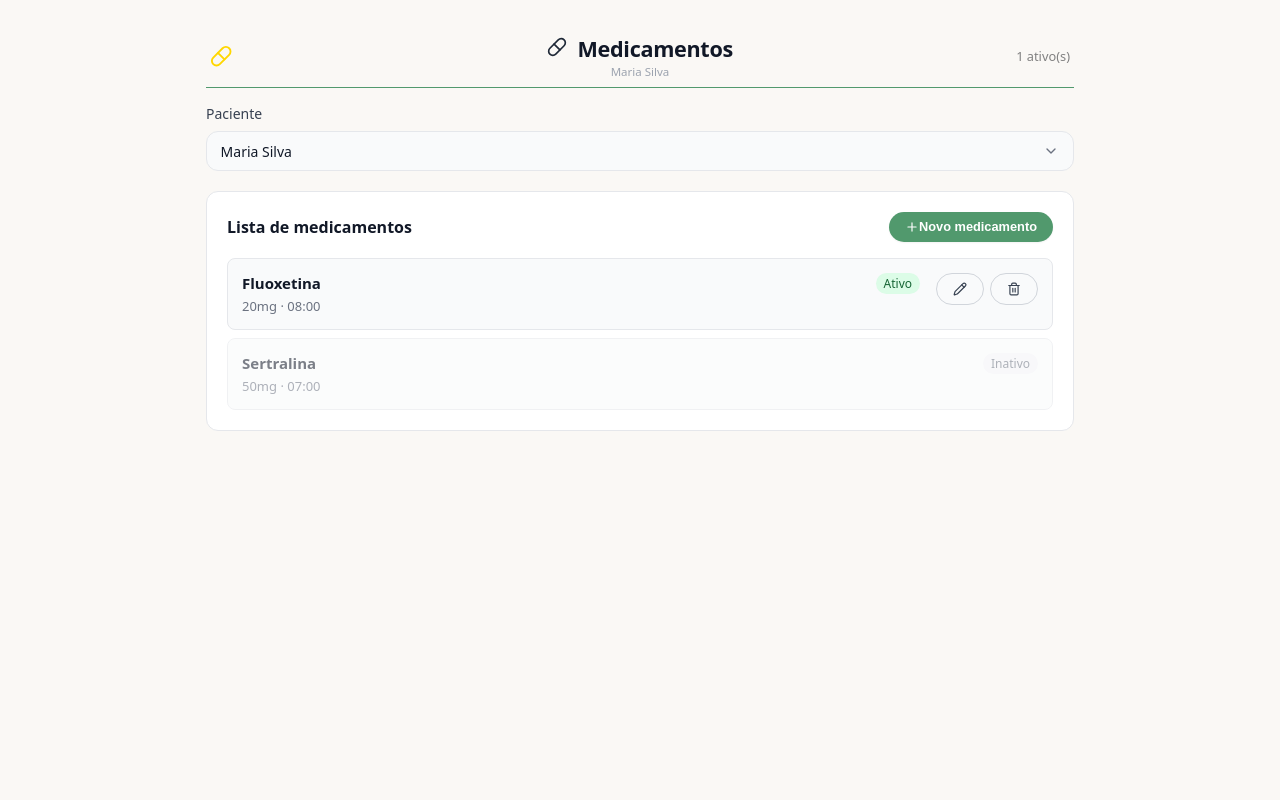
Test: MedicamentosProfissional › abre uma confirmacao visual antes de desativar um medicamento
What coordinates should you click on to do the following:
click the button named "Desativar"
I would click on:
 (1014, 289)
Its box is [990,273,1038,305].
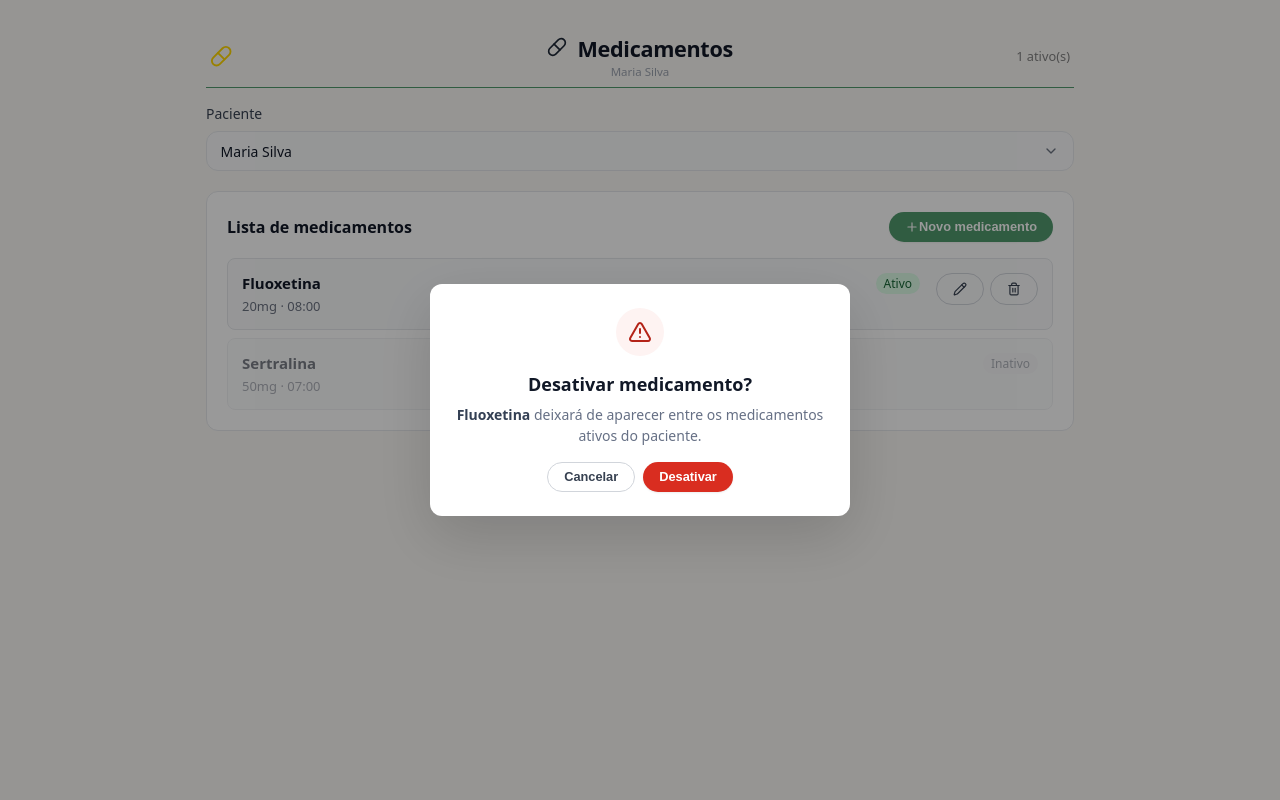
Now the button "Cancelar" is shown, box [547,462,635,492]
